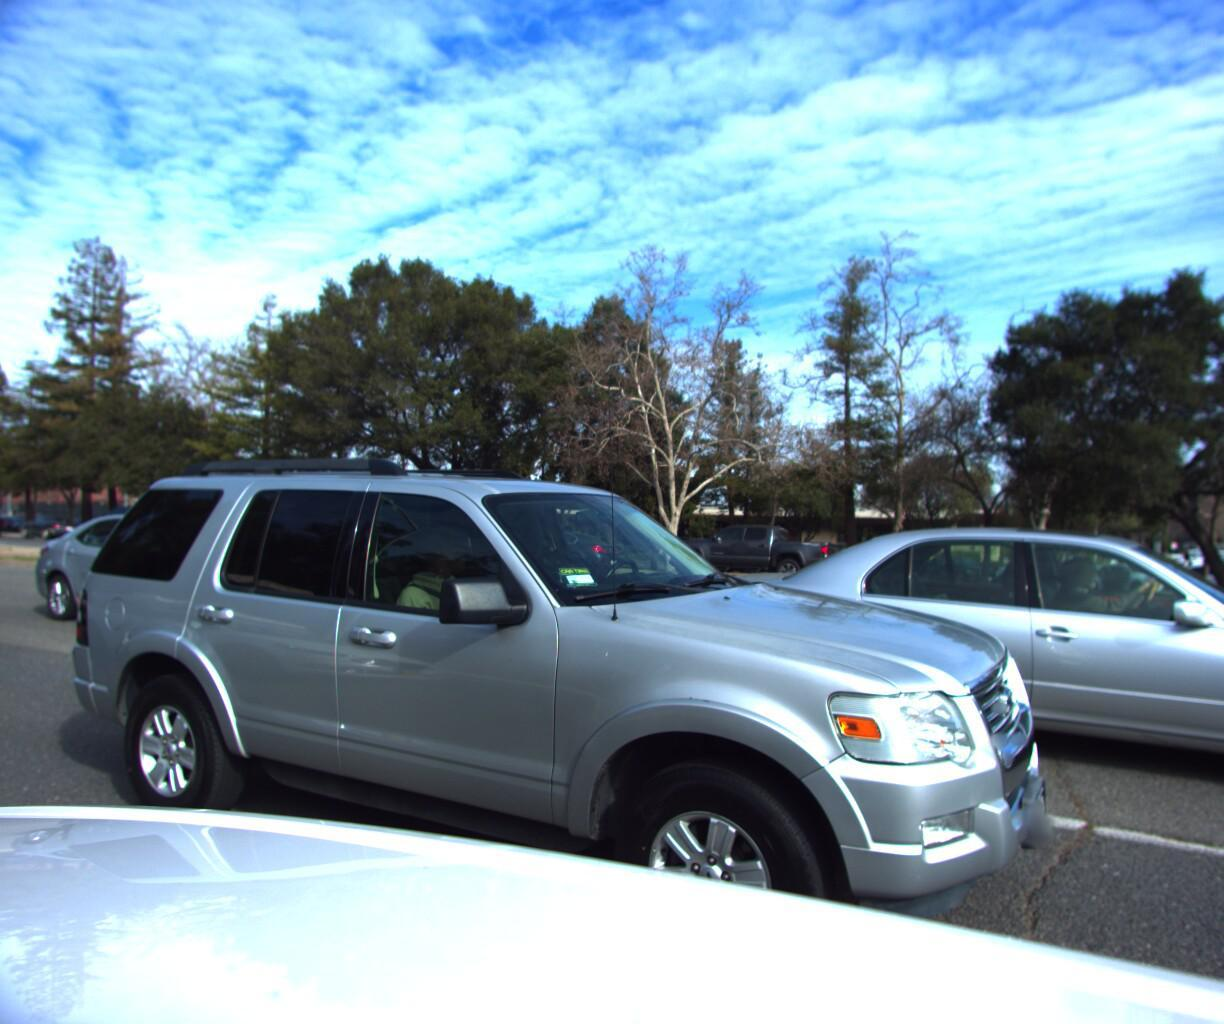car: (44, 365, 1081, 1024), (707, 515, 1224, 854), (15, 510, 358, 647), (665, 519, 850, 590), (10, 513, 91, 543), (0, 513, 8, 538)
